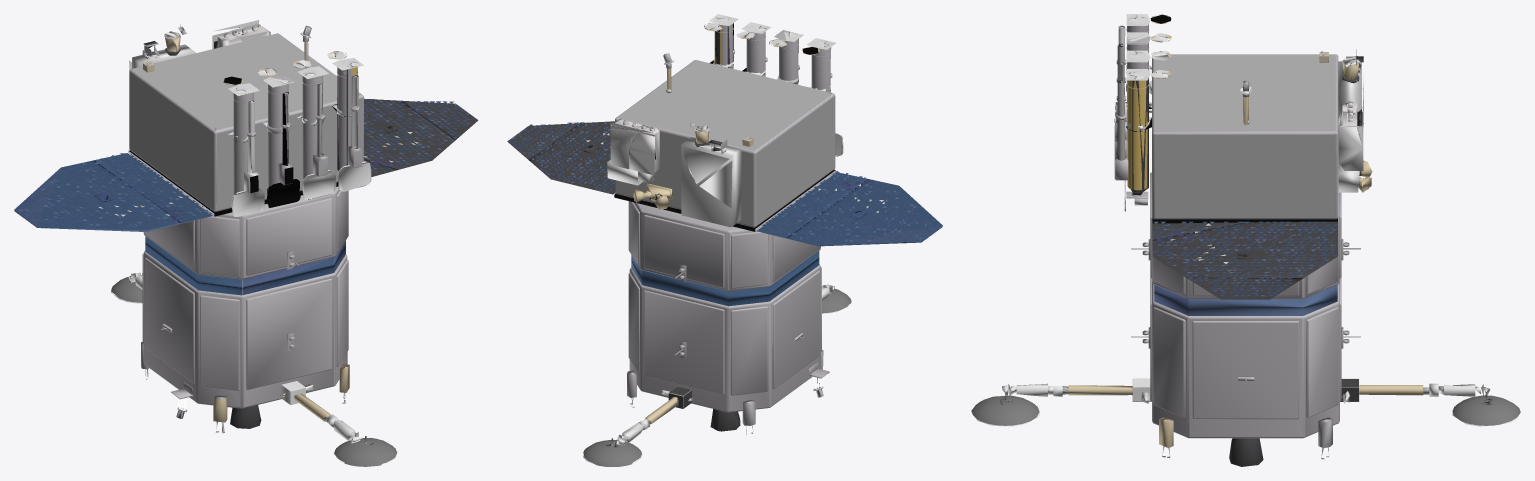
The model's file is sdo.glb.
3 renders of one model, left to right at view 1: azimuth 30°, elevation 25°; view 2: azimuth 150°, elevation 25°; view 3: azimuth 270°, elevation 25°, orthographic. The views are drawn at different scales.
Visible parts, largest first — view 1: Fake; view 2: Fake; view 3: Fake.
Part boxes in pixels (x1,y1,x2,y2): Fake: (14, 20, 478, 466); Fake: (507, 14, 942, 466); Fake: (971, 14, 1520, 466).
Bounding box in the file's own units: 1 × 0.8291 × 0.9995.
